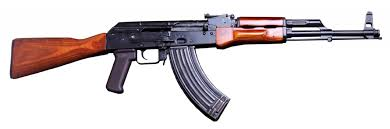gun: (8, 10, 381, 121)
